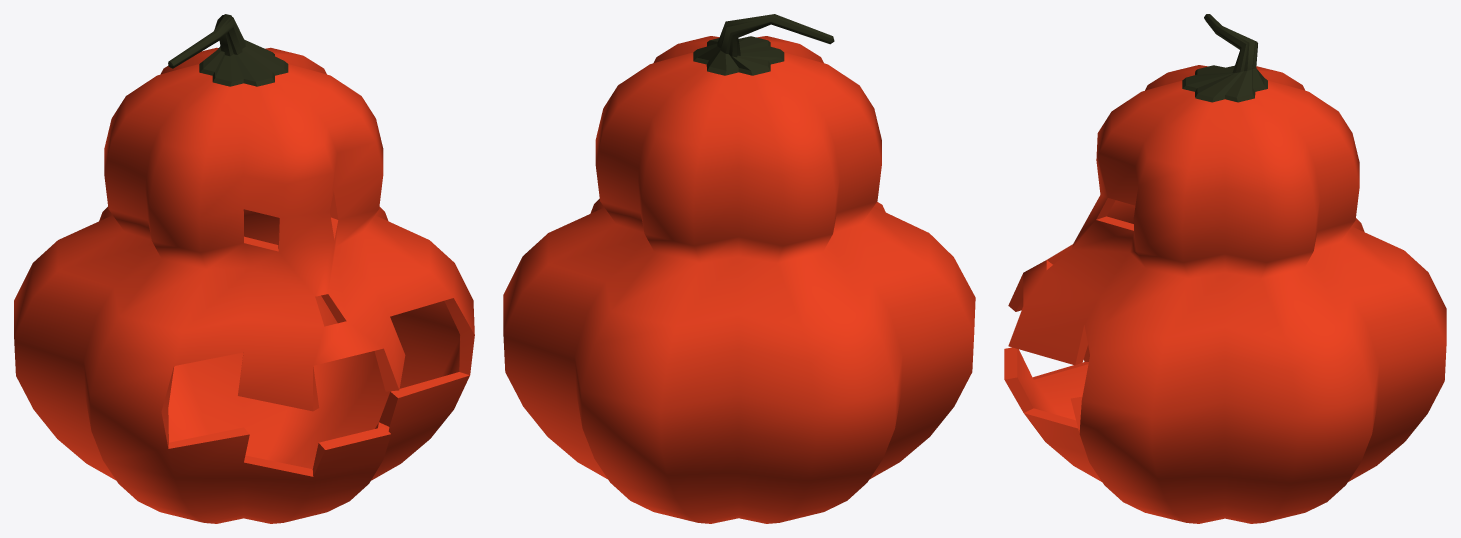
Rendered from pumpkin2.fbx.
3 renders of one model, left to right at view 1: azimuth 30°, elevation 25°; view 2: azimuth 150°, elevation 25°; view 3: azimuth 270°, elevation 25°, orthographic. The views are drawn at different scales.
Visible parts, largest first — view 1: pSphere3; view 2: pSphere3; view 3: pSphere3.
Part boxes in pixels (left/top/right/bottom): pSphere3: left=14, top=14, right=474, bottom=523; pSphere3: left=503, top=14, right=975, bottom=523; pSphere3: left=1004, top=14, right=1446, bottom=523.
Size of the model in its own units: 190 by 228 by 197.
